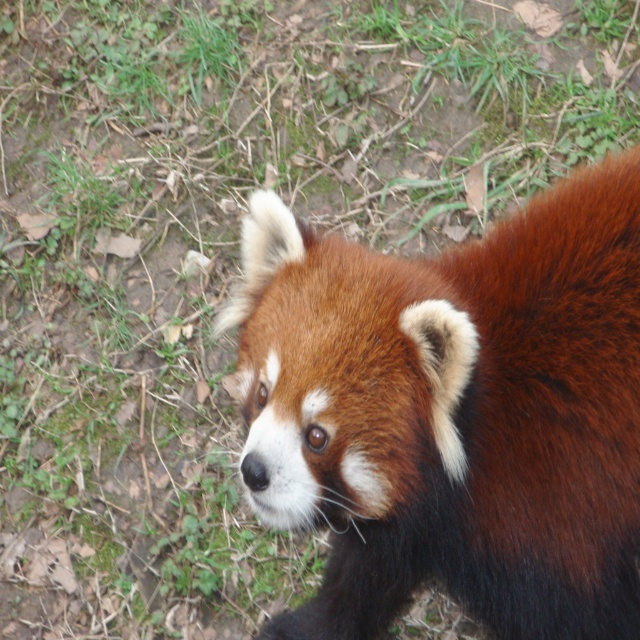Red panda: (205, 139, 640, 640)
